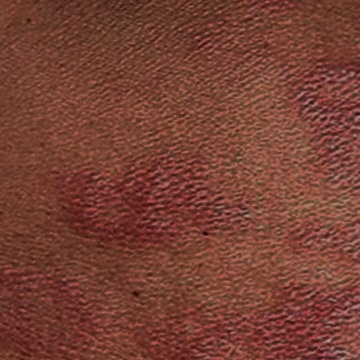Leprosy: (38, 159, 272, 255), (120, 282, 359, 359), (274, 53, 359, 196)
